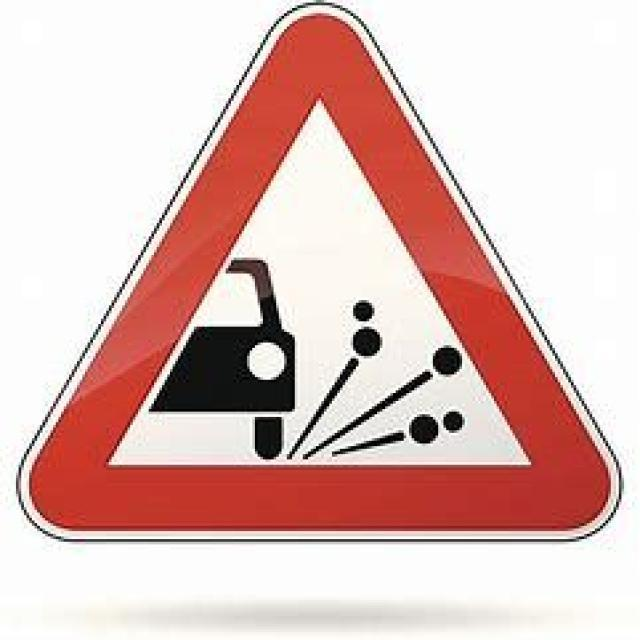loose gravel: (33, 19, 610, 534)
